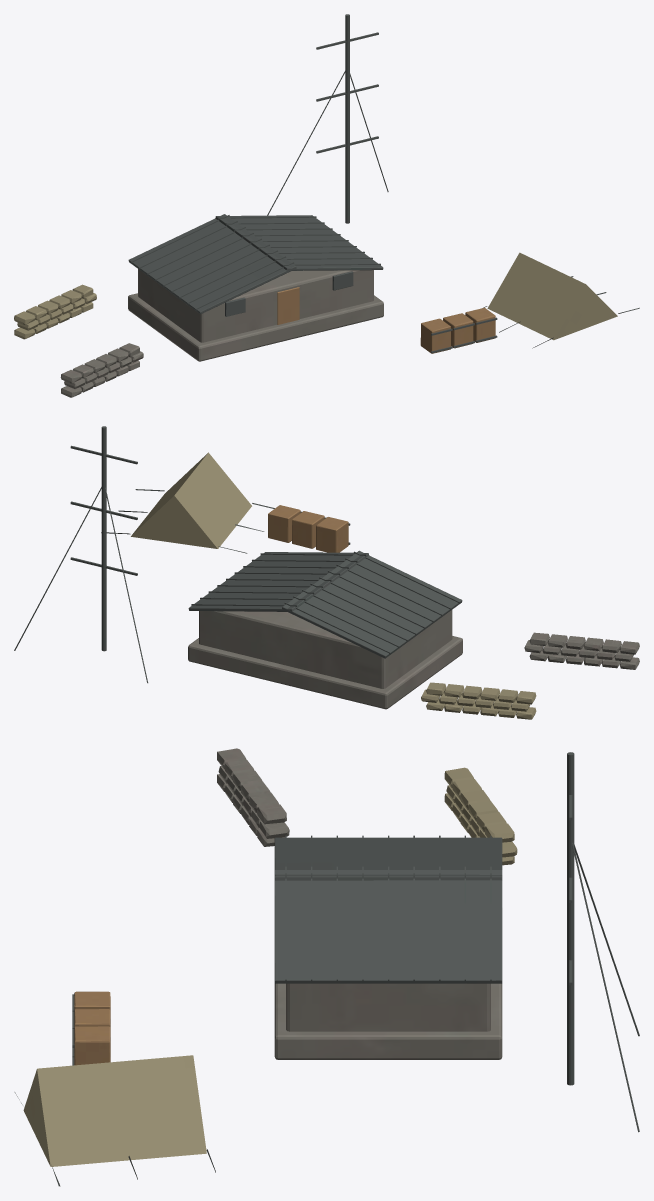
The model's file is raven-lod2.glb.
3 views of the same model, one above another, from view 1: azimuth 30°, elevation 25°; view 2: azimuth 150°, elevation 25°; view 3: azimuth 270°, elevation 25° (orthographic). The views are drawn at different scales.
Parts seen in each view (by area): view 1: raven_bunker_0.001, raven_small_tent_4.001, raven_crate_stack_5.001, raven_sandbags_3.001, raven_breastwork_2.001, raven_mast_1.001; view 2: raven_bunker_0.001, raven_small_tent_4.001, raven_breastwork_2.001, raven_sandbags_3.001, raven_crate_stack_5.001, raven_mast_1.001; view 3: raven_bunker_0.001, raven_small_tent_4.001, raven_mast_1.001, raven_breastwork_2.001, raven_sandbags_3.001, raven_crate_stack_5.001.
Part boxes in pixels (x1=…): raven_bunker_0.001: x1=128, y1=214, x2=383, y2=361; raven_small_tent_4.001: x1=483, y1=252, x2=639, y2=348; raven_crate_stack_5.001: x1=420, y1=307, x2=497, y2=353; raven_sandbags_3.001: x1=14, y1=284, x2=96, y2=339; raven_breastwork_2.001: x1=60, y1=343, x2=143, y2=397; raven_mast_1.001: x1=267, y1=14, x2=388, y2=223; raven_bunker_0.001: x1=188, y1=550, x2=462, y2=709; raven_small_tent_4.001: x1=101, y1=452, x2=274, y2=553; raven_breastwork_2.001: x1=524, y1=632, x2=639, y2=669; raven_sandbags_3.001: x1=421, y1=682, x2=536, y2=719; raven_crate_stack_5.001: x1=268, y1=505, x2=350, y2=552; raven_mast_1.001: x1=14, y1=426, x2=148, y2=683; raven_bunker_0.001: x1=274, y1=835, x2=502, y2=1059; raven_small_tent_4.001: x1=14, y1=1055, x2=215, y2=1186; raven_mast_1.001: x1=567, y1=752, x2=639, y2=1132; raven_breastwork_2.001: x1=217, y1=748, x2=289, y2=846; raven_sandbags_3.001: x1=444, y1=767, x2=517, y2=865; raven_crate_stack_5.001: x1=72, y1=991, x2=110, y2=1065.
Size of the model in its own units: 42.15 by 17 by 27.48.
Materials: 4 (4 with a texture image).
